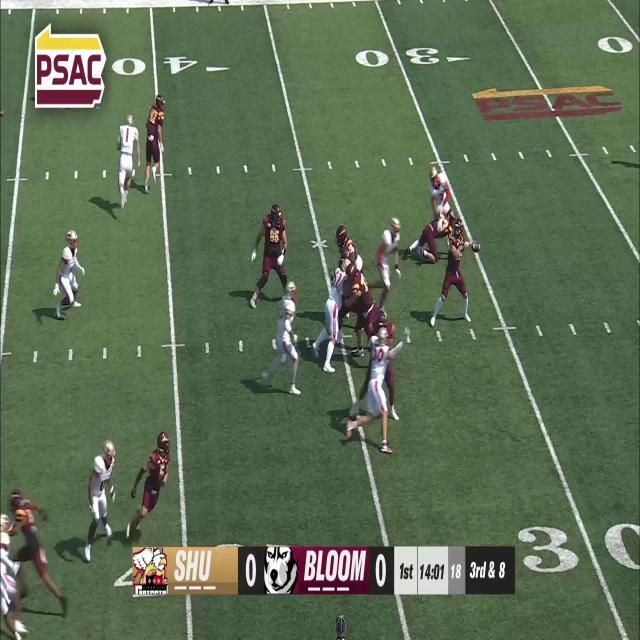football: (471, 240, 482, 252)
